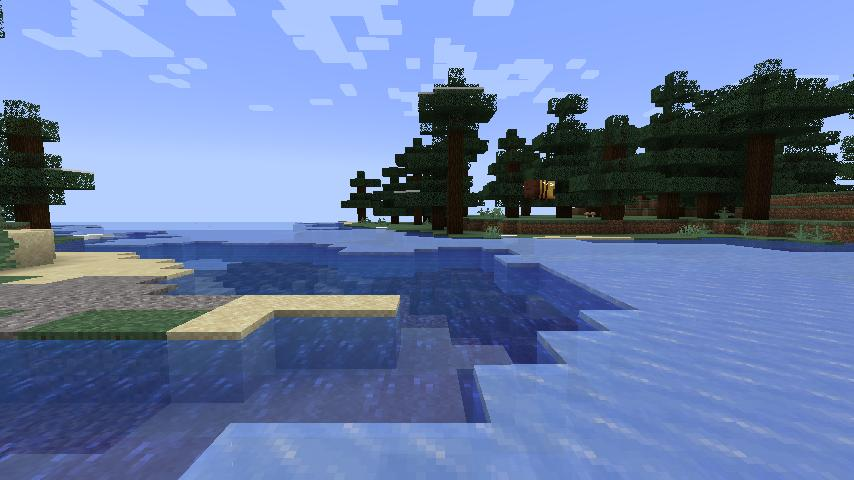bee: (521, 176, 559, 203)
